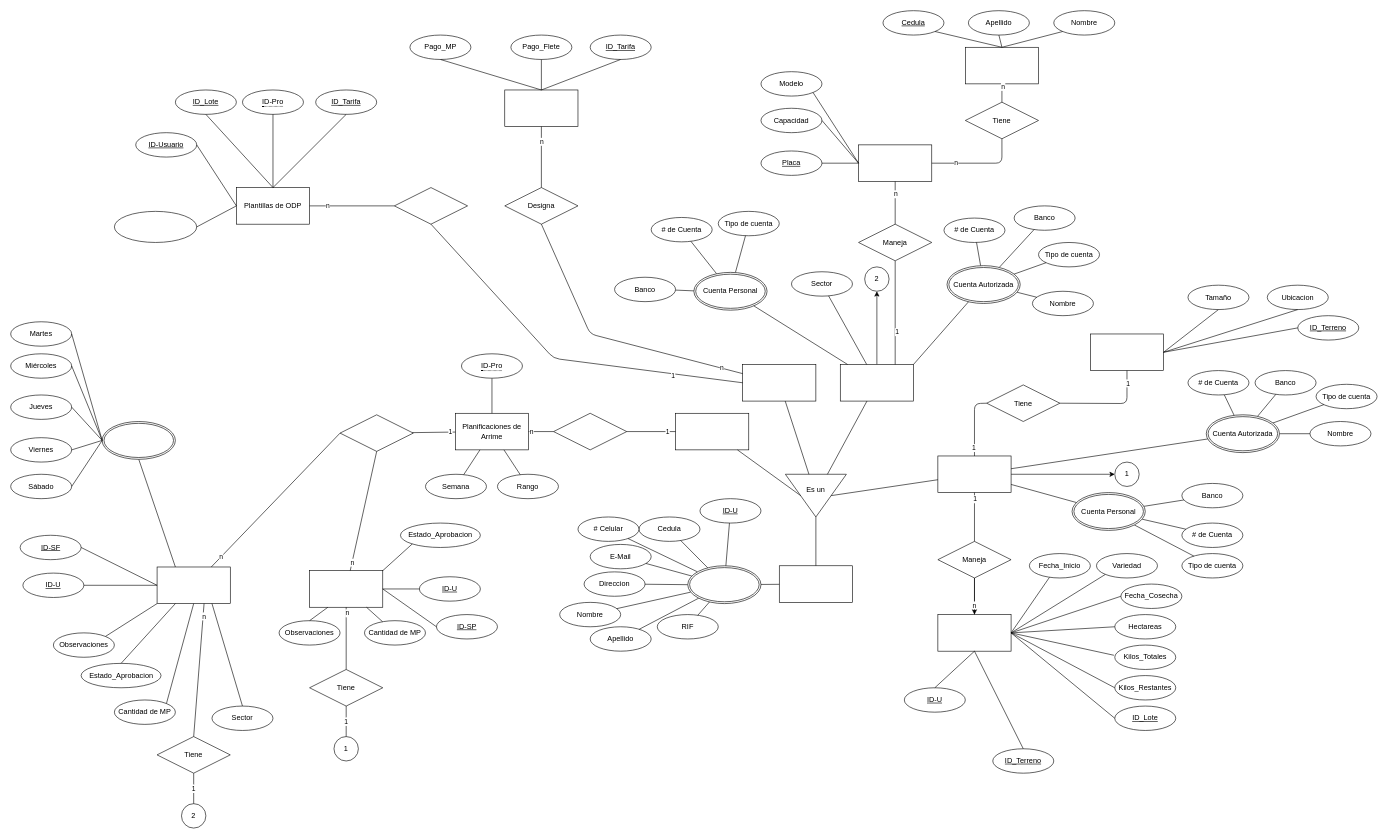
Image size: 1388x839. Some labels were removed from this diagram. The shapes that lost their labels are listed below. From the top down, each one's centre as x and y in pixels, then its label:
pixel 1002 65: Choferes
pixel 541 108: Tarifas
pixel 895 162: Camiones
pixel 431 205: Genera
pixel 155 226: ID-SolicitudProveedor
pixel 1127 352: Terreno
pixel 779 382: Contraloría
pixel 876 382: Fleteros
pixel 138 440: Dias
pixel 376 432: Envia
pixel 590 431: Realiza
pixel 712 431: Agropecuario
pixel 974 474: Proveedores
pixel 193 585: Solicitud_Fletero
pixel 346 588: Solicitud_Proveedor
pixel 724 584: Datos Personales
pixel 815 583: Usuario
pixel 974 632: Siembras
